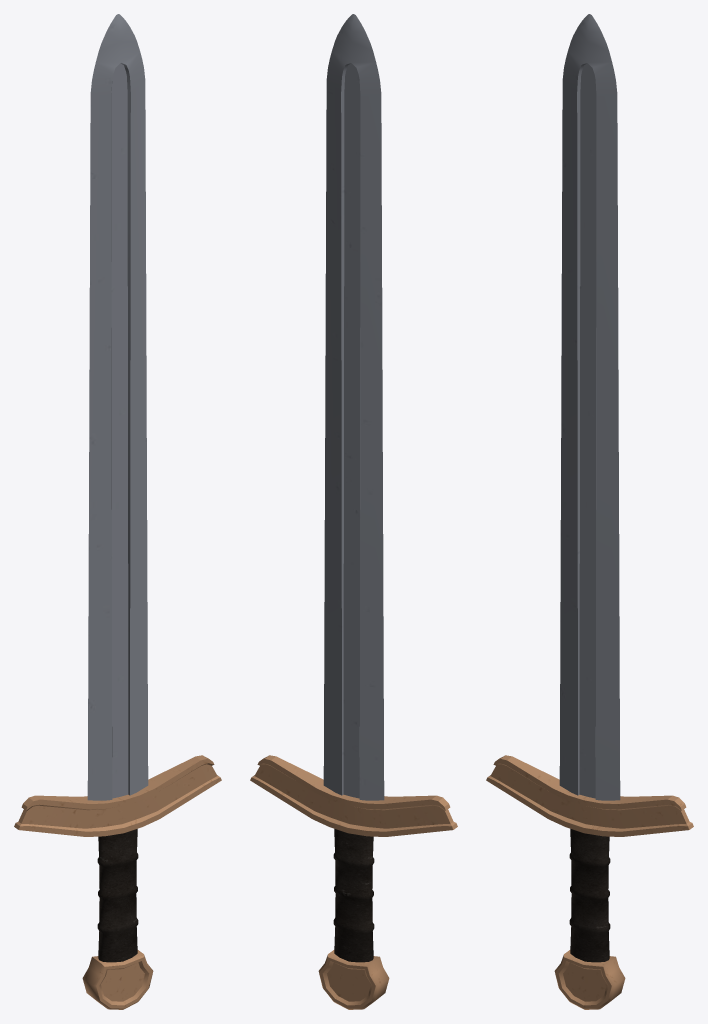
File: w_viking_sword.glb
3 renders of one model, left to right at view 1: azimuth 30°, elevation 25°; view 2: azimuth 150°, elevation 25°; view 3: azimuth 330°, elevation 25°, orthographic.
Parts seen in each view (by area): view 1: sword_low__0; view 2: sword_low__0; view 3: sword_low__0.
Boxes of the visible parts, x1=… form: sword_low__0: x1=14, y1=14, x2=221, y2=1009; sword_low__0: x1=250, y1=14, x2=457, y2=1009; sword_low__0: x1=486, y1=14, x2=693, y2=1009.
Bounding box in the file's own units: 15.98 × 74.49 × 1.73.
Materials: 1 (1 with a texture image).
